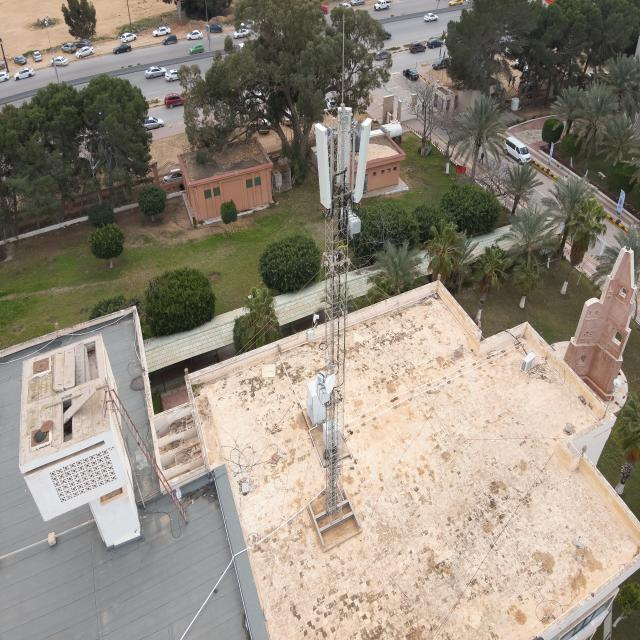antenna: (353, 118, 373, 205), (314, 122, 333, 210), (337, 105, 352, 188)
lighnig-rad: (341, 11, 345, 106)
microware-dish: (315, 370, 338, 396)
power-box: (315, 380, 331, 404)
radio-unit: (338, 204, 362, 235)
